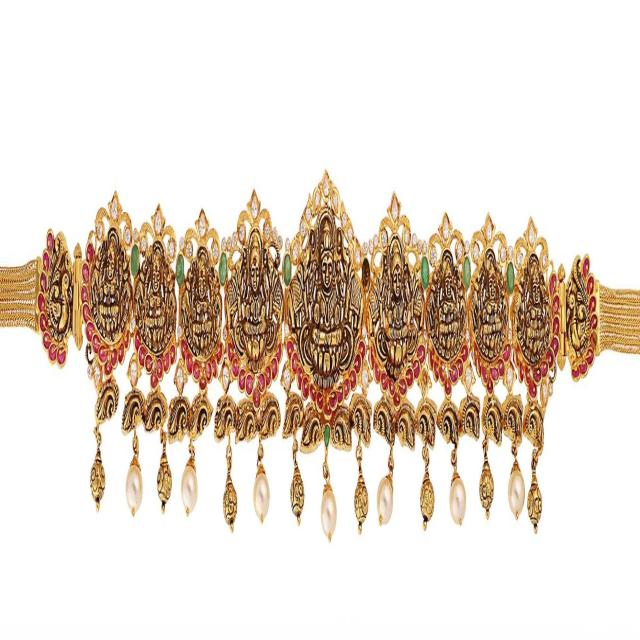missing gem: (362, 258, 370, 292), (421, 369, 428, 397)
